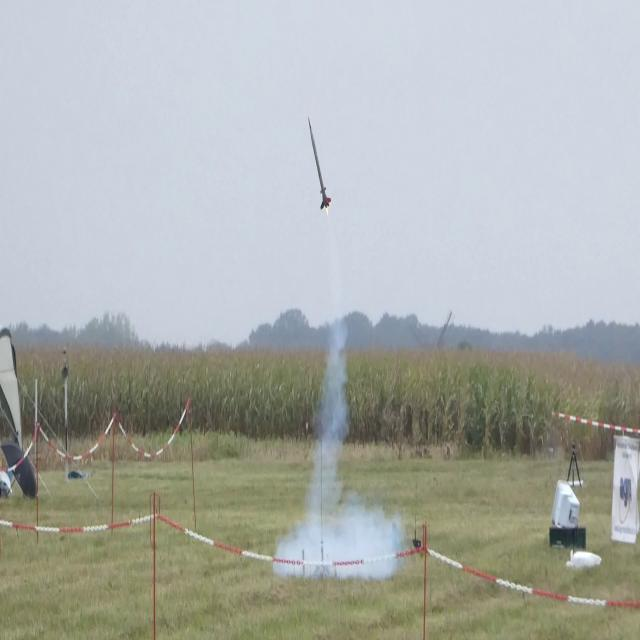Rocket: (308, 116, 332, 209)
